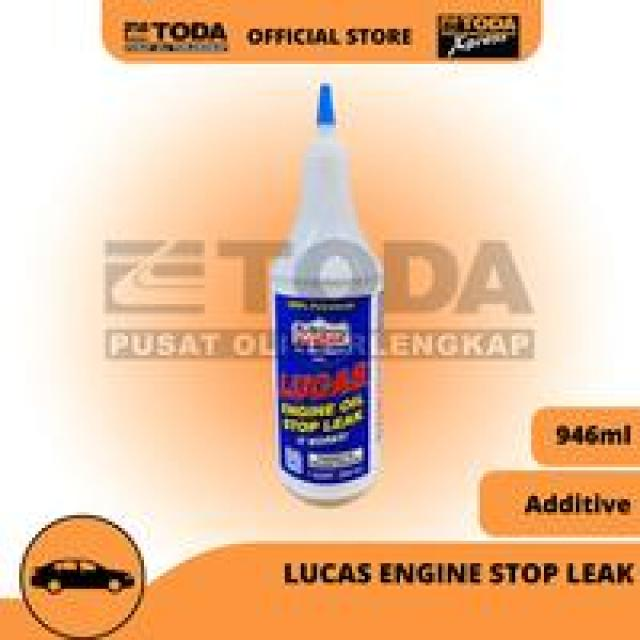-oil-: (270, 76, 392, 525)
